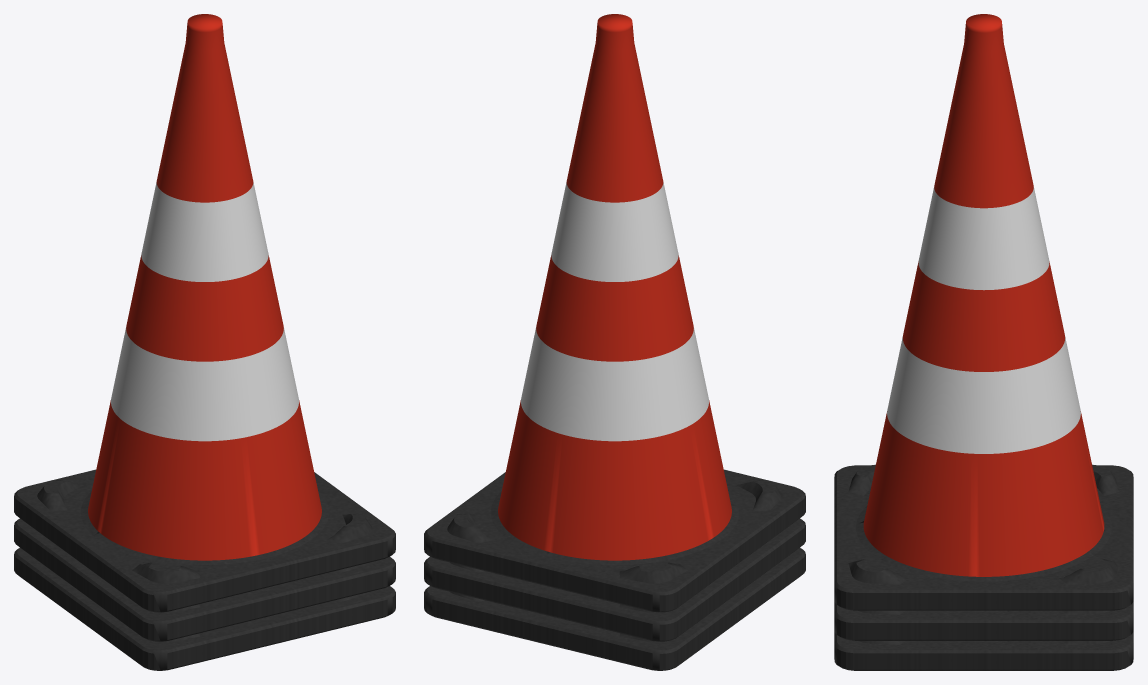
Rendered from nested_three.glb.
3 renders of one model, left to right at view 1: azimuth 30°, elevation 25°; view 2: azimuth 150°, elevation 25°; view 3: azimuth 270°, elevation 25°, orthographic. The views are drawn at different scales.
Parts seen in each view (by area): view 1: Nested cone 3, Nested cone 2, Decoded saved GLB cone; view 2: Nested cone 3, Nested cone 2, Decoded saved GLB cone; view 3: Nested cone 3, Nested cone 2, Decoded saved GLB cone.
Part boxes in pixels (x1,y1,x2,y2): Nested cone 3: (14,14,395,612); Nested cone 2: (14,518,395,641); Decoded saved GLB cone: (14,548,395,670); Nested cone 3: (424,14,805,612); Nested cone 2: (424,518,805,641); Decoded saved GLB cone: (424,548,805,670); Nested cone 3: (834,14,1133,610); Nested cone 2: (834,599,1133,640); Decoded saved GLB cone: (834,630,1133,670).
Bounding box in the file's own units: 0.36 × 0.78 × 0.36.
4 materials, 1 textured.
